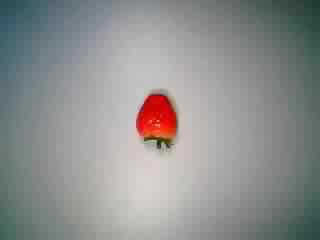strawberry: (120, 90, 188, 154)
